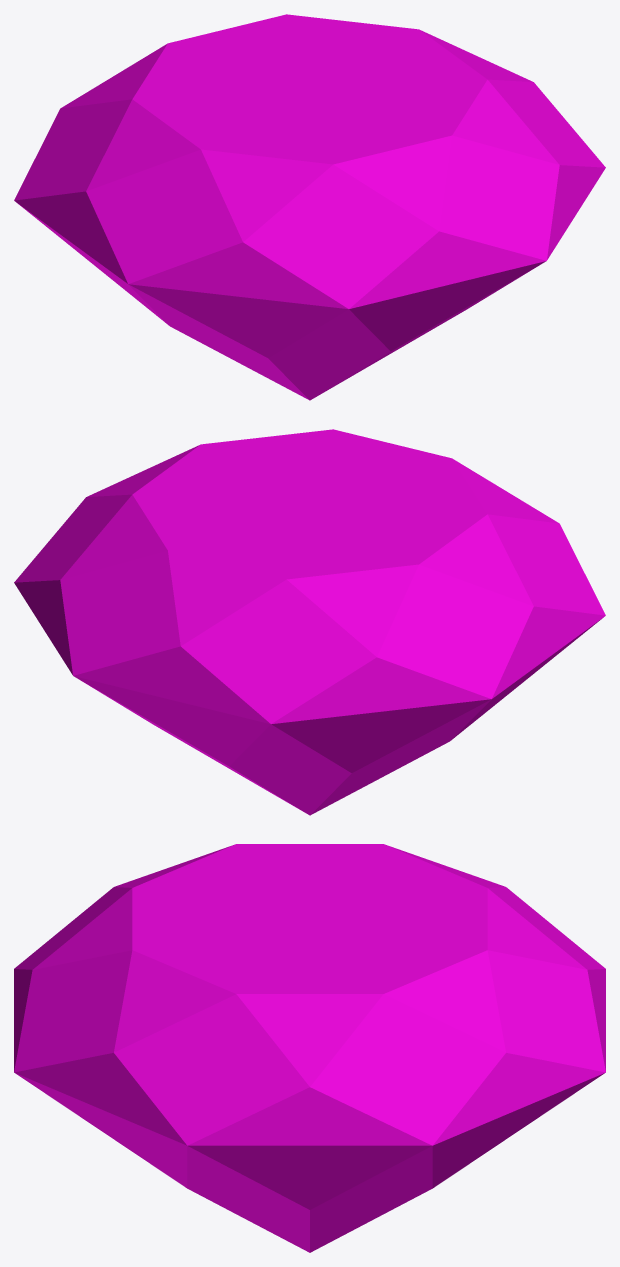
Rendered from Gem_01.glb.
3 renders of one model, top to bottom at view 1: azimuth 30°, elevation 25°; view 2: azimuth 150°, elevation 25°; view 3: azimuth 270°, elevation 25°, orthographic. The views are drawn at different scales.
Parts seen in each view (by area): view 1: Gem_01; view 2: Gem_01; view 3: Gem_01.
Boxes of the visible parts, <box> form: Gem_01: <box>14,14,605,400</box>; Gem_01: <box>14,429,605,815</box>; Gem_01: <box>14,844,605,1252</box>.
Size of the model in its own units: 0.1114 by 0.0693 by 0.1114.
